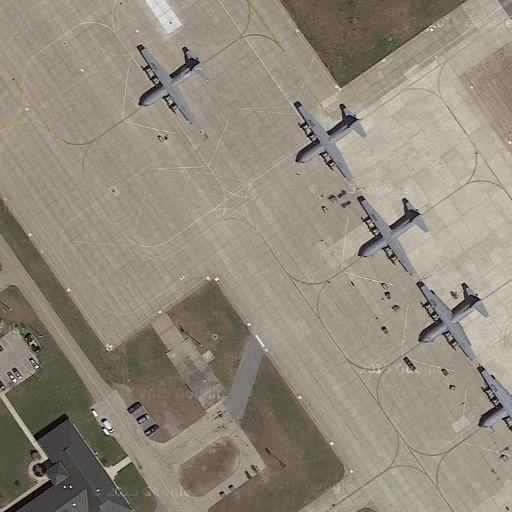C-130: (413, 274, 495, 363), (289, 98, 368, 186), (353, 191, 432, 277), (132, 42, 209, 122)
